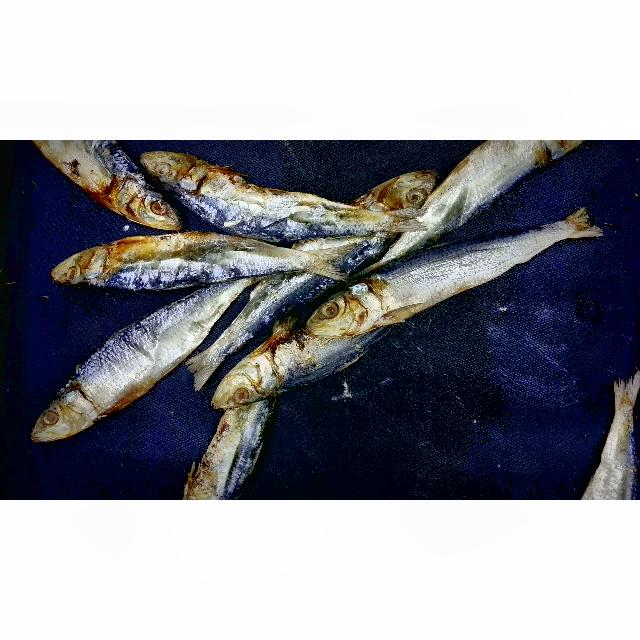Grade_B_Body: (209, 162, 362, 246), (382, 239, 518, 317), (89, 316, 196, 404), (124, 220, 256, 282), (436, 143, 566, 197)
Grade_B_Head: (16, 375, 103, 457), (356, 155, 437, 213), (296, 283, 377, 336), (208, 356, 285, 410), (47, 237, 114, 291), (122, 179, 187, 234), (137, 142, 197, 186)
Grade_B_Tail: (536, 363, 640, 500), (184, 296, 281, 397), (493, 202, 613, 263), (254, 232, 350, 287)
